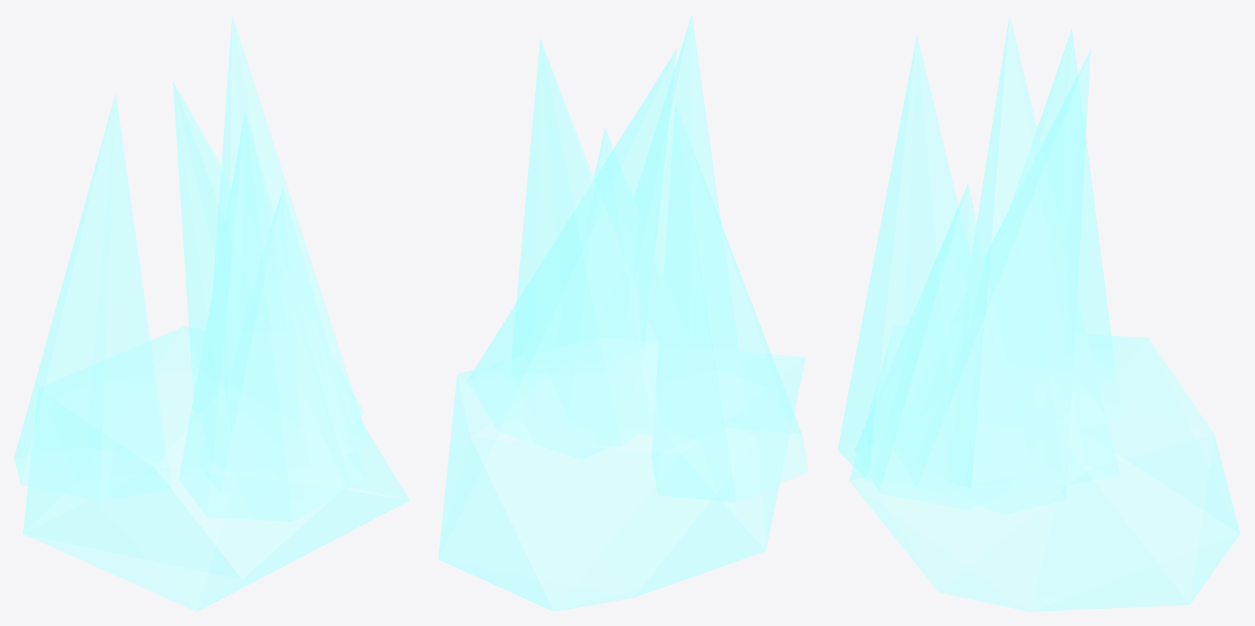
File: GH_Ore_GemCluster.fbx
The picture shows the model from 3 angles, left to right: view 1: azimuth 30°, elevation 25°; view 2: azimuth 150°, elevation 25°; view 3: azimuth 270°, elevation 25°; orthographic projection. The views are drawn at different scales.
Parts seen in each view (by area): view 1: SM_Ore_GemCluster; view 2: SM_Ore_GemCluster; view 3: SM_Ore_GemCluster.
Part boxes in pixels (box(x1,y1,x2,y2)): SM_Ore_GemCluster: box(14, 15, 409, 611); SM_Ore_GemCluster: box(438, 15, 808, 611); SM_Ore_GemCluster: box(837, 15, 1240, 611).
Bounding box in the file's own units: 0.4095 × 0.6363 × 0.3899.
